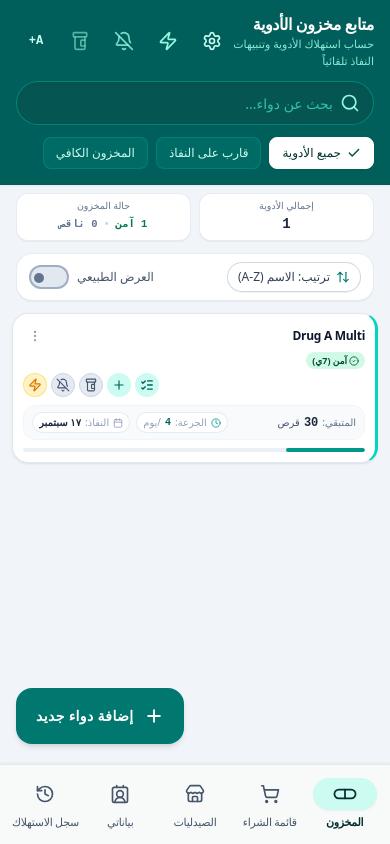
it: App multi-dose manual consumption (real wiring) › closing SelectDoseModal without selecting does not consume
The width and height of the screenshot is (390, 844).
Expected: the heading "Drug A Multi" is shown, top-left (292, 327), bottom-right (365, 344)
Click the button with test id "manage-doses-med-multi": [147, 385] box top-left (135, 373), bottom-right (159, 397)
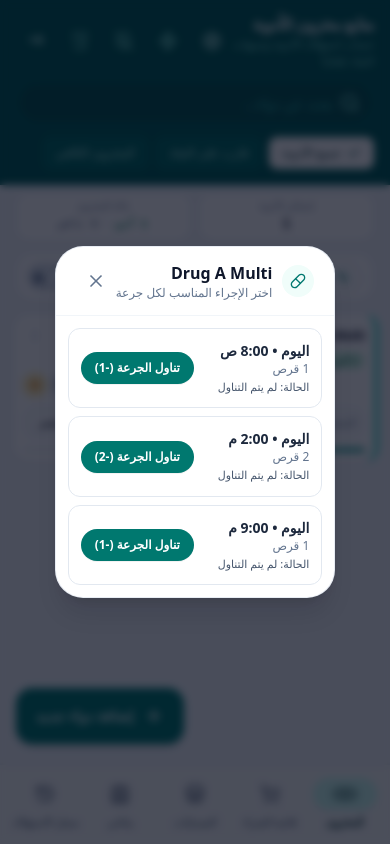
Result: the text "اختر الإجراء المناسب لكل جرعة" is shown at top-left (116, 285), bottom-right (272, 301)
Click the button named "إغلاق": [96, 281] box top-left (76, 261), bottom-right (116, 301)
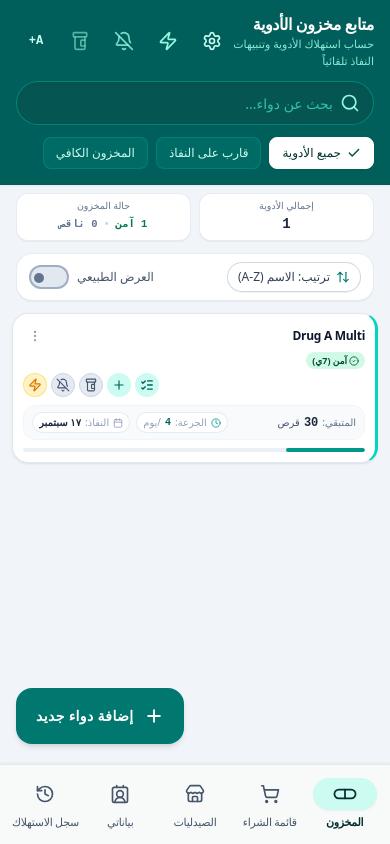
Result: the text "اختر الإجراء المناسب لكل جرعة" is gone
